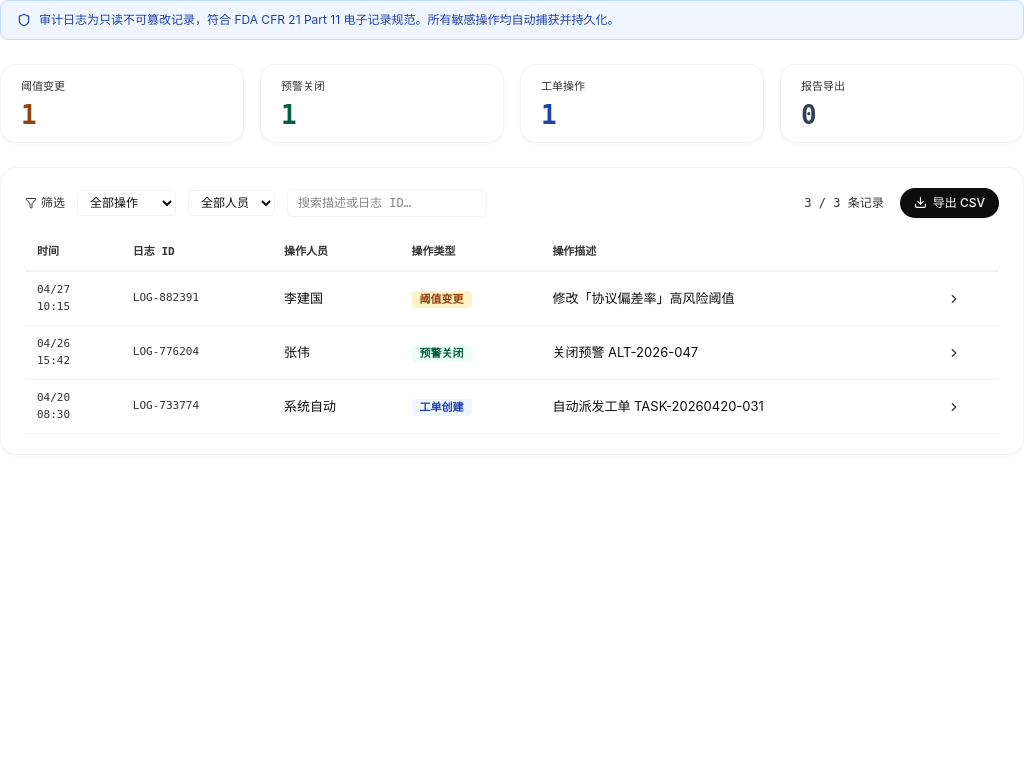
Test: AuditTrail › expands row details on click
Click the text "修改「协议偏差率」高风险阈值" at (643, 298), box [540,271,935,326]
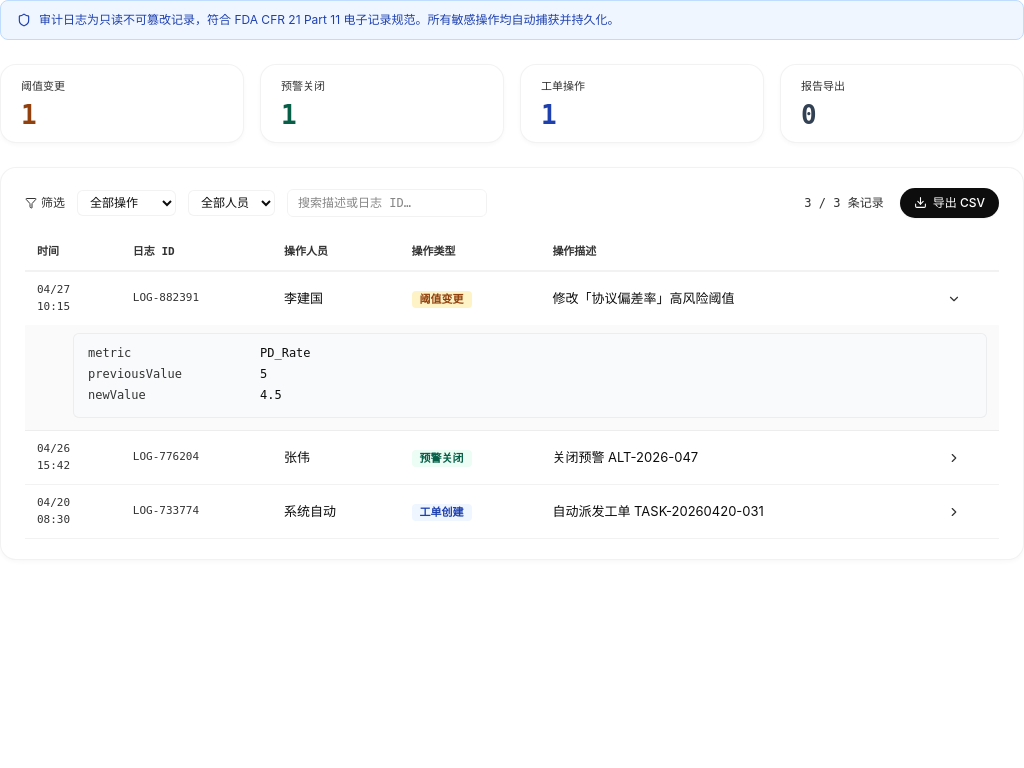
Now the text "PD_Rate" is shown, box [260,344,311,362]
